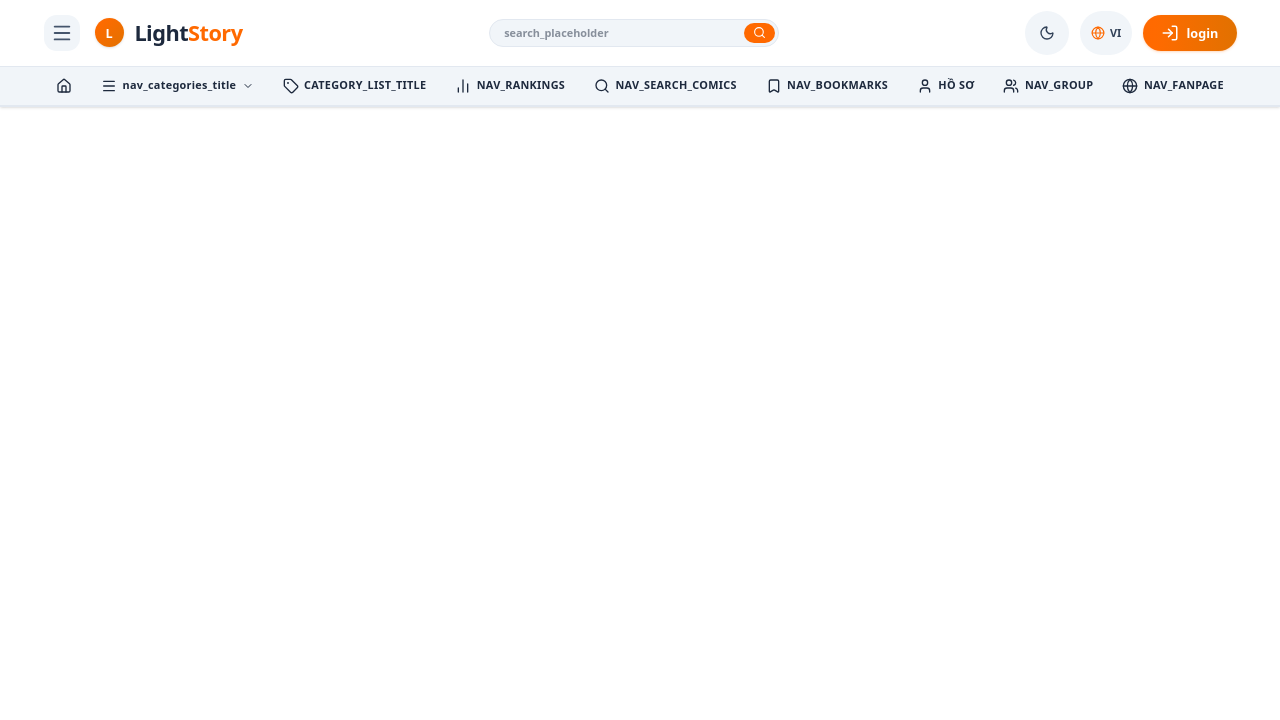
it: Header auth flow (public UI overhaul) › mobile hamburger is named, exposes expanded state, and opens the drawer
What coordinates should you click on to do the following:
click the button named "header_open_menu"
I would click on:
 (62, 33)
Its box is [44,15,80,51].
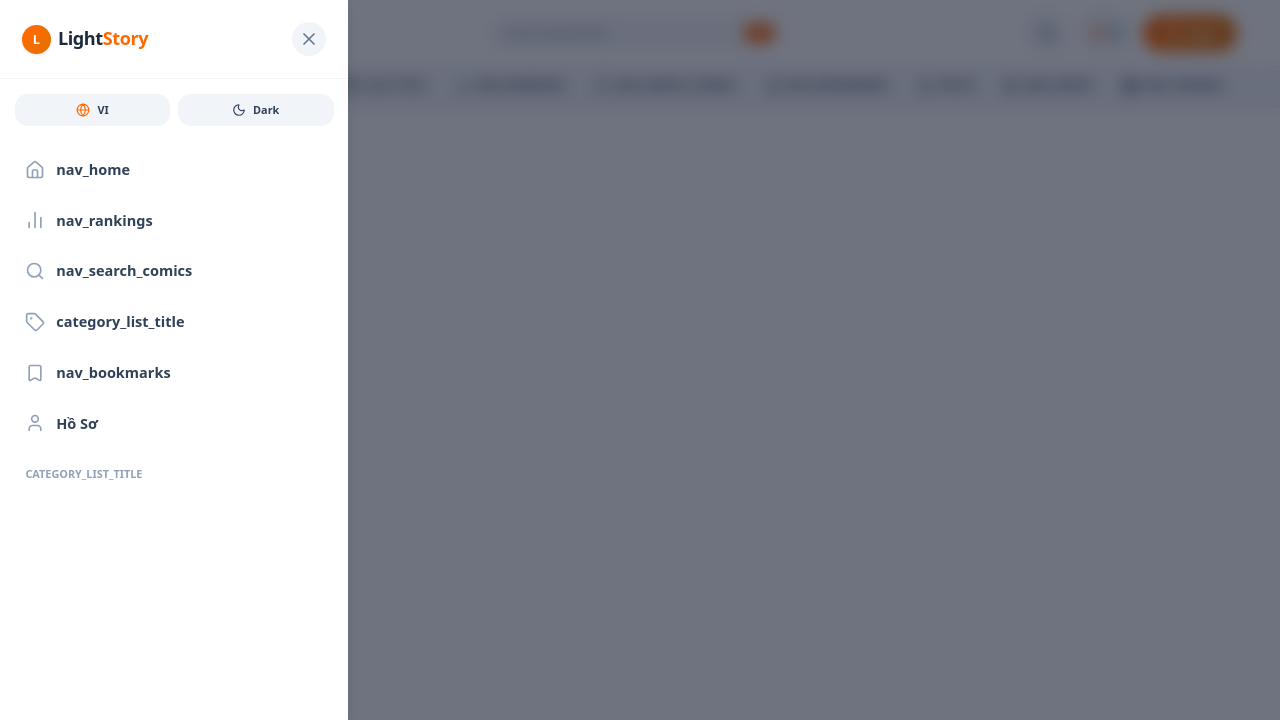
expect the button named "header_open_menu" is expanded: met, box [44,15,80,51]
